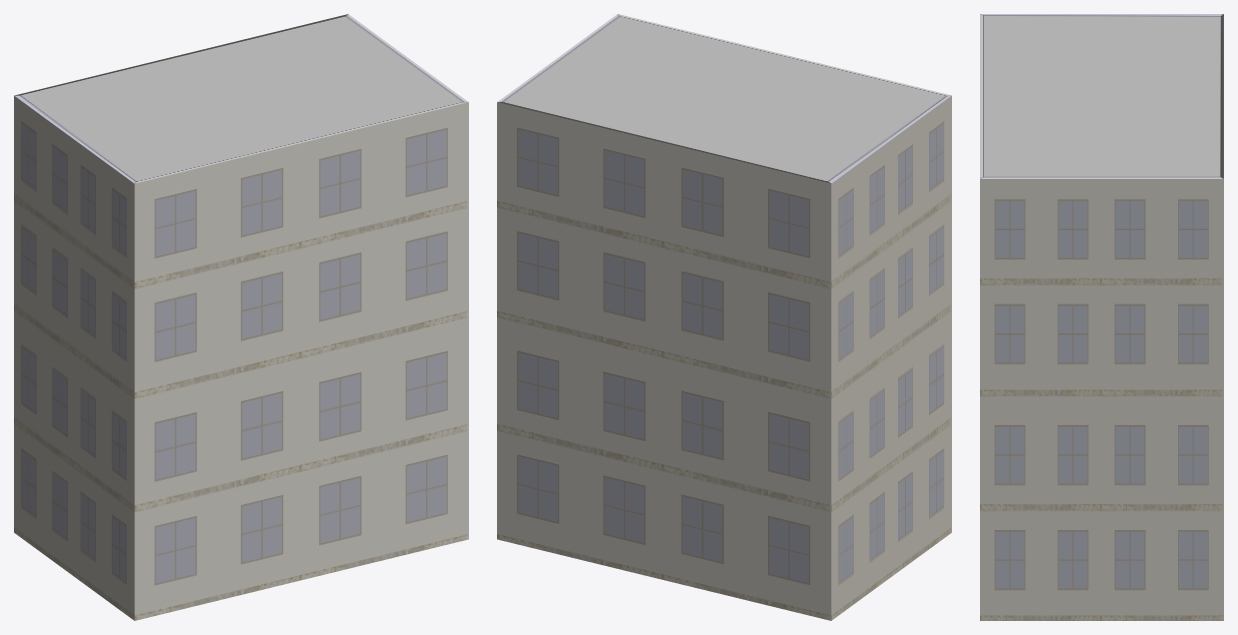
Rendered from testui13.gltf.
3 renders of one model, left to right at view 1: azimuth 30°, elevation 25°; view 2: azimuth 150°, elevation 25°; view 3: azimuth 270°, elevation 25°, orthographic.
Parts seen in each view (by area): view 1: 立方体-正面, 立方体-侧面, 立方体-屋顶; view 2: 立方体-正面, 立方体-侧面, 立方体-屋顶; view 3: 立方体-侧面, 立方体-屋顶.
Boxes of the visible parts, x1,y1,x2,y2 form: 立方体-正面: [134, 102, 468, 620]; 立方体-侧面: [14, 96, 134, 620]; 立方体-屋顶: [14, 14, 468, 183]; 立方体-正面: [497, 102, 831, 620]; 立方体-侧面: [831, 96, 951, 620]; 立方体-屋顶: [497, 14, 951, 183]; 立方体-侧面: [980, 179, 1223, 620]; 立方体-屋顶: [980, 14, 1223, 178].
Bounding box in the file's own units: 240 × 300 × 150.
Materials: 3 (3 with a texture image).
